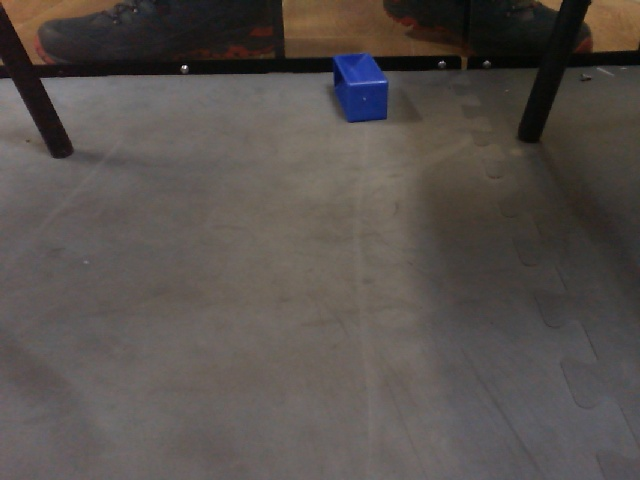BlueSample: (328, 51, 391, 127)
